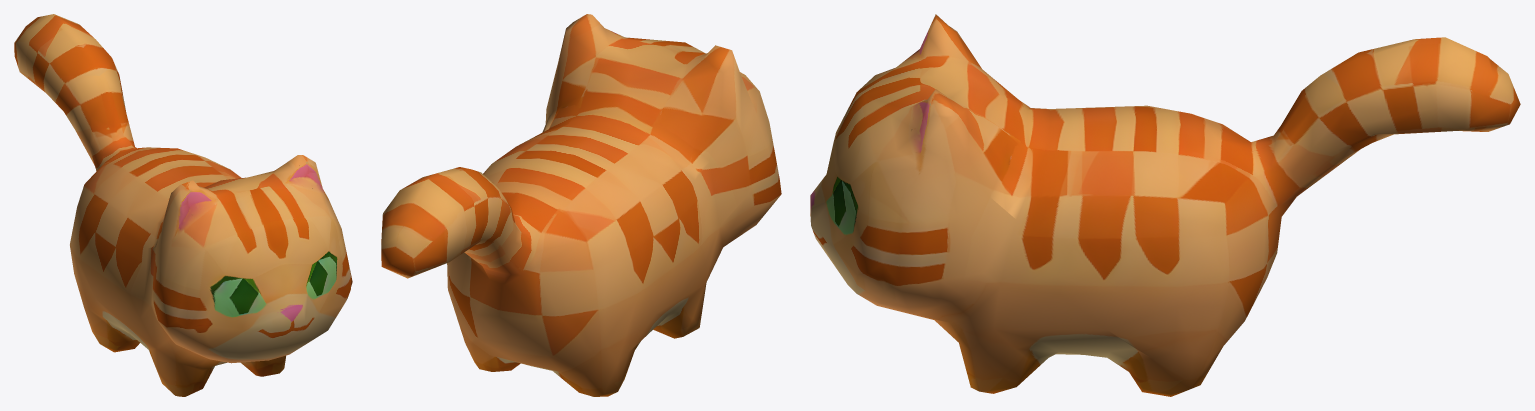
File: tabby-cat-ultra400.glb
3 renders of one model, left to right at view 1: azimuth 30°, elevation 25°; view 2: azimuth 150°, elevation 25°; view 3: azimuth 270°, elevation 25°, orthographic. The views are drawn at different scales.
Parts seen in each view (by area): view 1: material; view 2: material; view 3: material.
Boxes of the visible parts, x1=… form: material: x1=14, y1=14, x2=352, y2=396; material: x1=381, y1=14, x2=781, y2=396; material: x1=810, y1=14, x2=1520, y2=396.
Bounding box in the file's own units: 0.4519 × 0.5766 × 1.12.
1 material, 1 textured.
